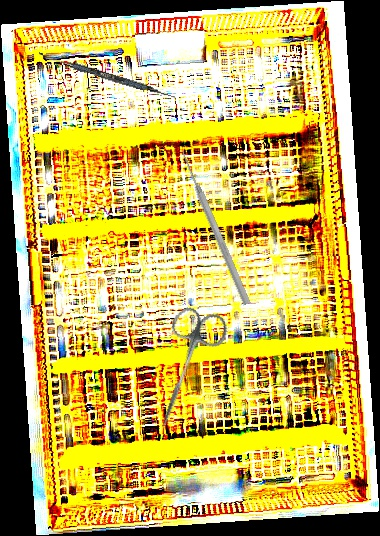Iris Scissors: (138, 301, 232, 439)
Pusher: (177, 148, 253, 307)
Spatula Surgical: (36, 52, 178, 100)
